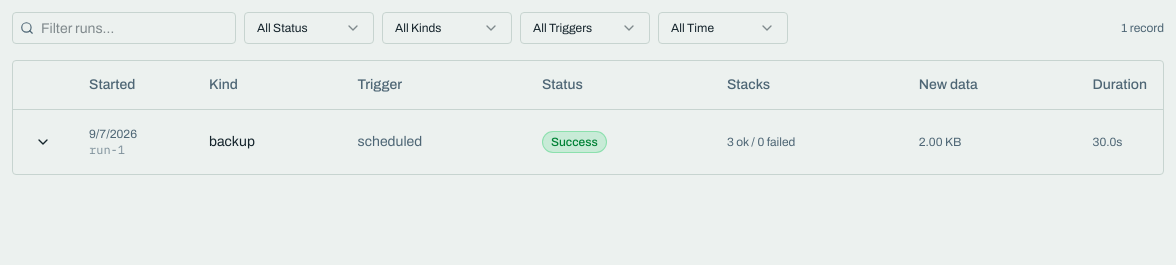
Scenario: BackupHistoryTab — expandable run rows › names the cause the backend sent for a 500 INTERNAL_ERROR failure
The width and height of the screenshot is (1176, 265).
Expected: the text "run-1" is shown, left=89, top=142, right=125, bottom=156
Click the button named "Show details for run run-1" at (43, 142), box left=29, top=128, right=57, bottom=156
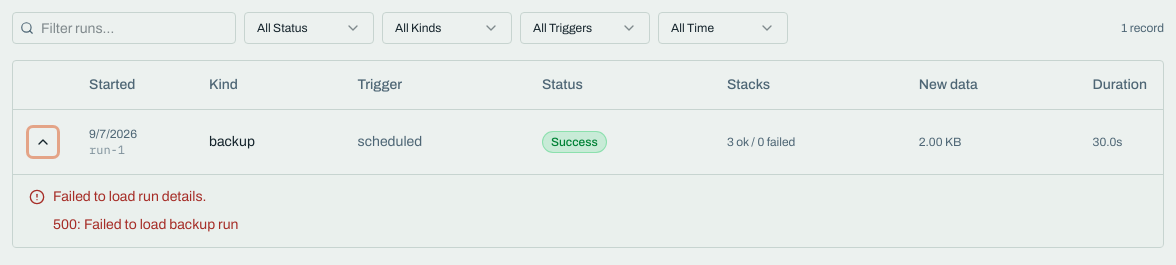
Now the text "Failed to load run details." is shown, box left=29, top=188, right=206, bottom=204
Now the text "500: Failed to load backup run" is shown, box left=53, top=216, right=238, bottom=232
